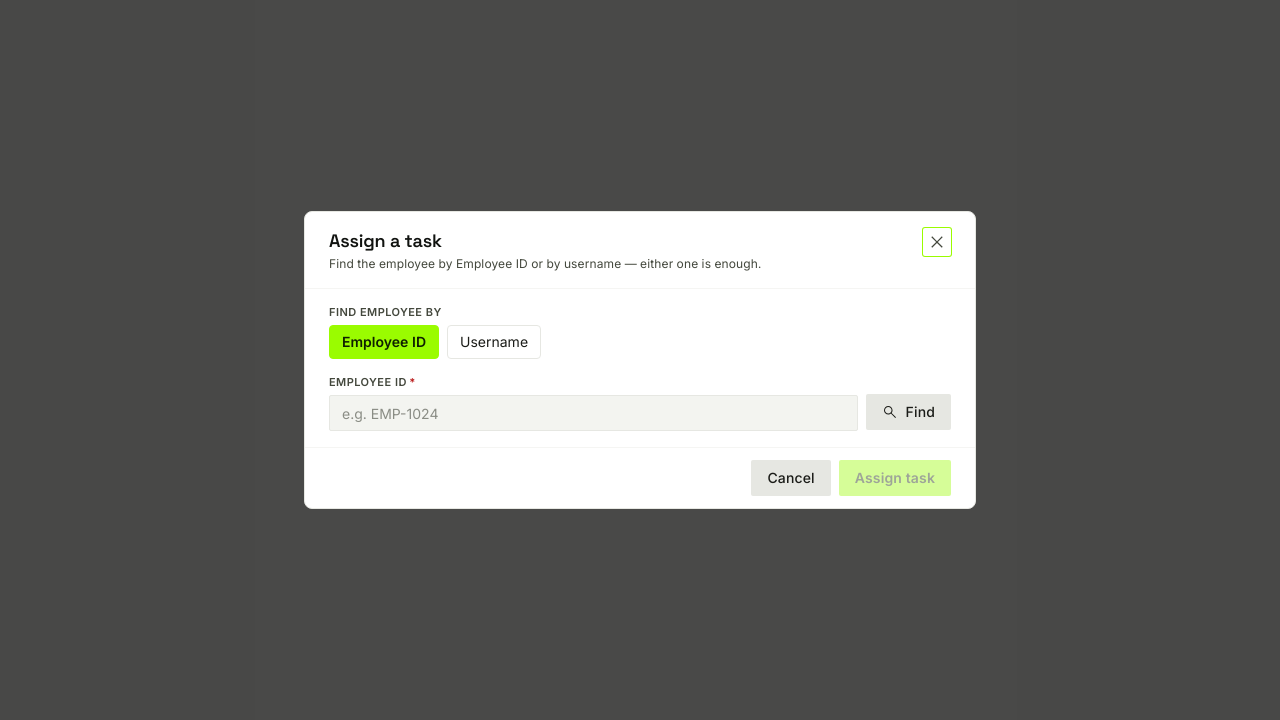
Test: AssignTaskModal › looks up by username alone and shows server validation errors
Click the radio button labelled "Username". click: (494, 342)
box: [447,325,541,359]
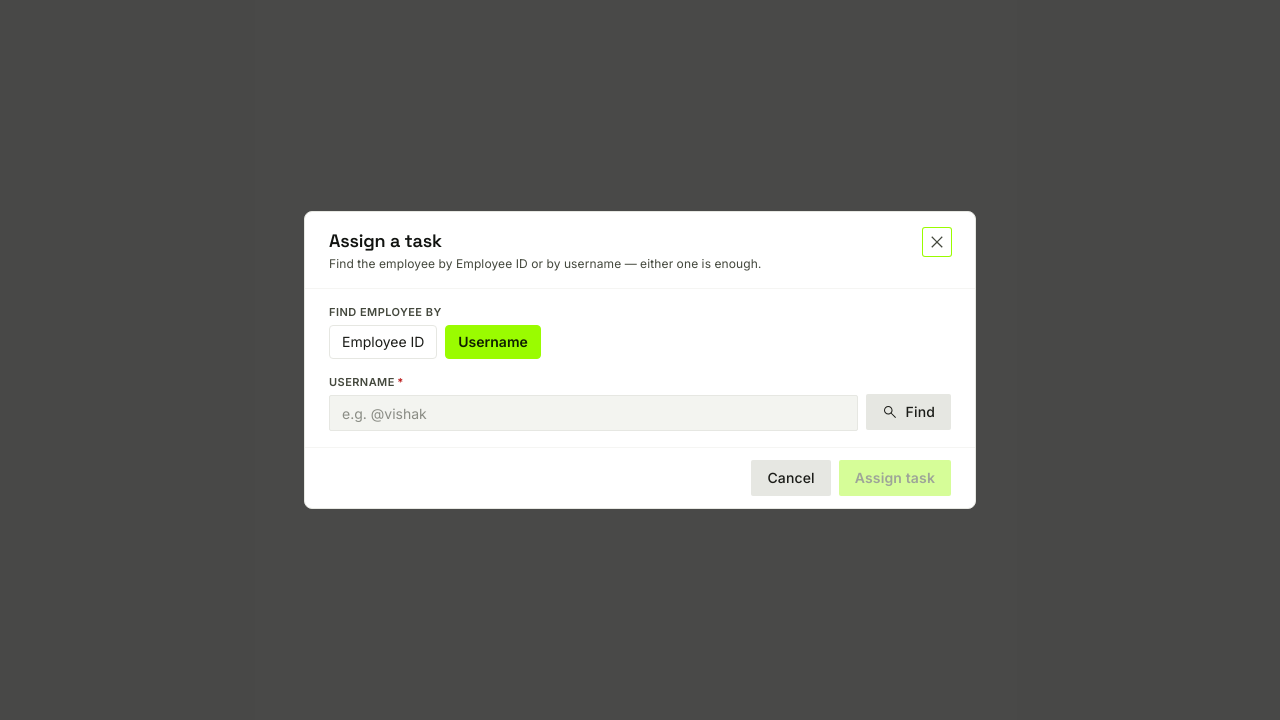
Type "@ghost" into the field labelled "Username*". click: (593, 413)
box: [329,395,858,431]
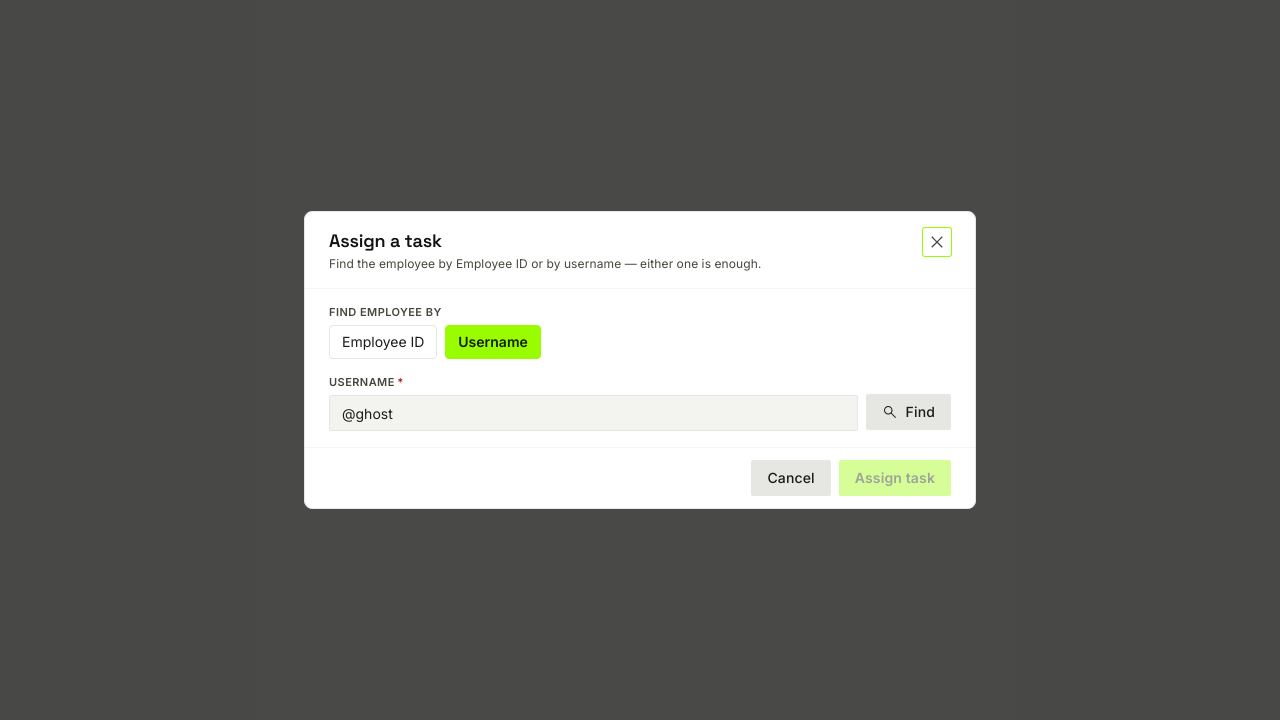
Click the button "Find". click: (908, 412)
box: [866,394,951,430]
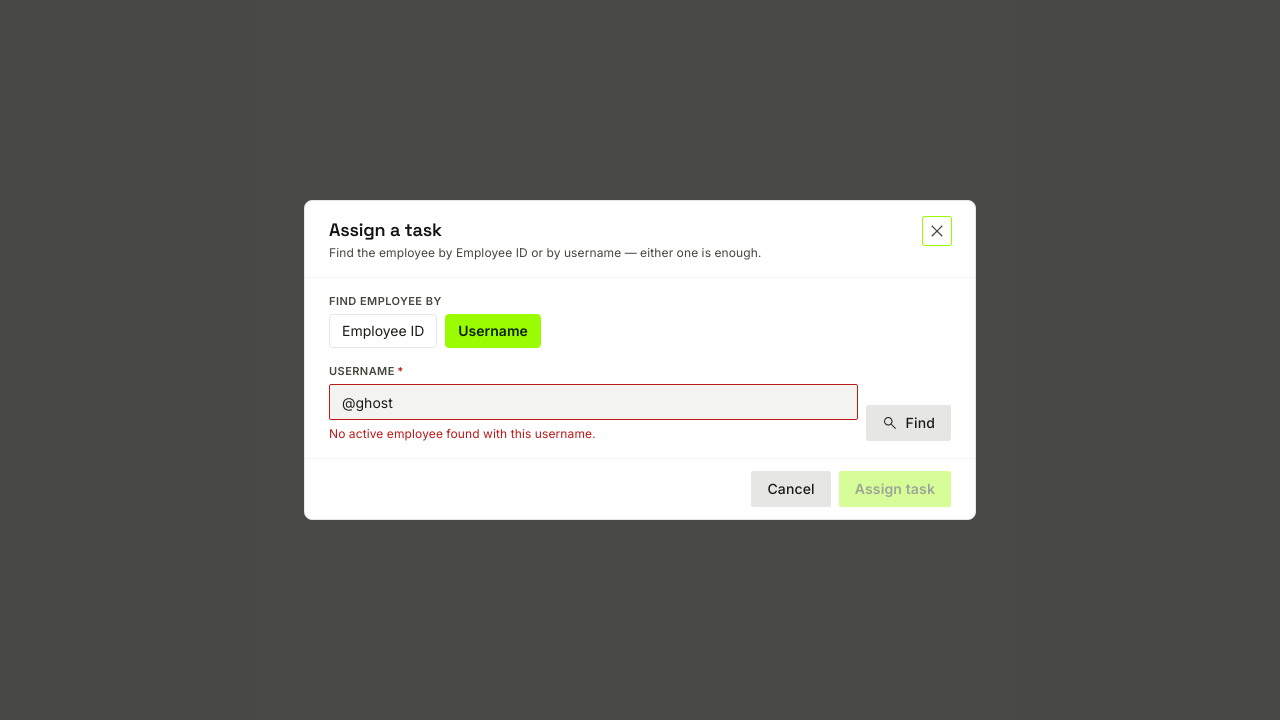
Expected: the button "Assign task" is disabled, [839,471,951,507]
Now the text "No active employee found with this username." is shown, box [329,426,596,441]
